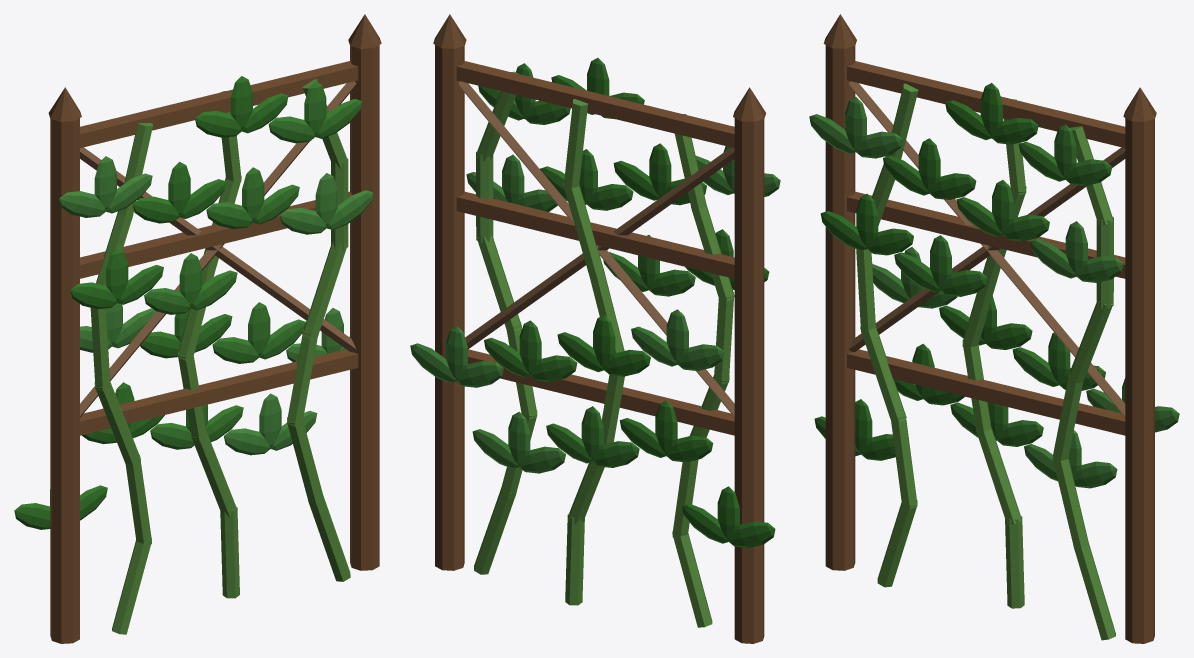
File: Planta_PoisonIvy.fbx
The picture shows the model from 3 angles, left to right: view 1: azimuth 30°, elevation 25°; view 2: azimuth 150°, elevation 25°; view 3: azimuth 330°, elevation 25°; orthographic projection.
Parts seen in each view (by area): view 1: Corpo_PoisonIvy; view 2: Corpo_PoisonIvy; view 3: Corpo_PoisonIvy.
Boxes of the visible parts, bbox=[...] form: Corpo_PoisonIvy: bbox=[14, 14, 381, 643]; Corpo_PoisonIvy: bbox=[410, 14, 780, 643]; Corpo_PoisonIvy: bbox=[809, 14, 1179, 643].
Size of the model in its own units: 2.19 by 3.19 by 0.3076.
Materials: 1 (1 with a texture image).
